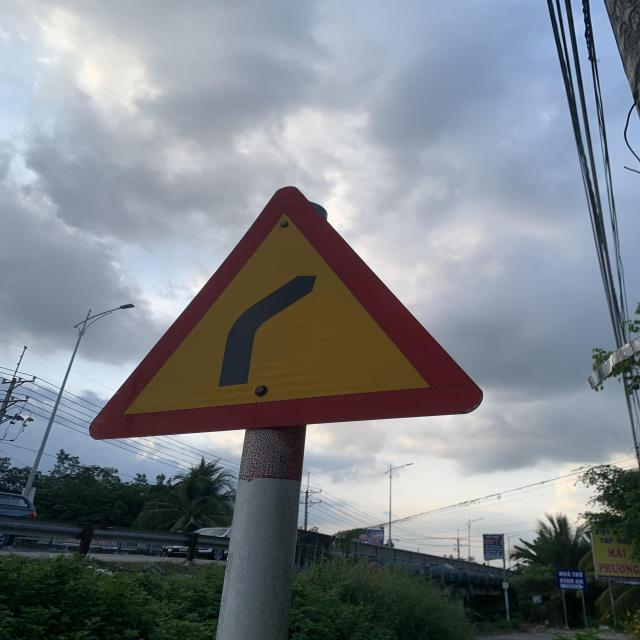Duong_Nguoi_Di_Bo_Cat_Ngang: (98, 180, 482, 442)
